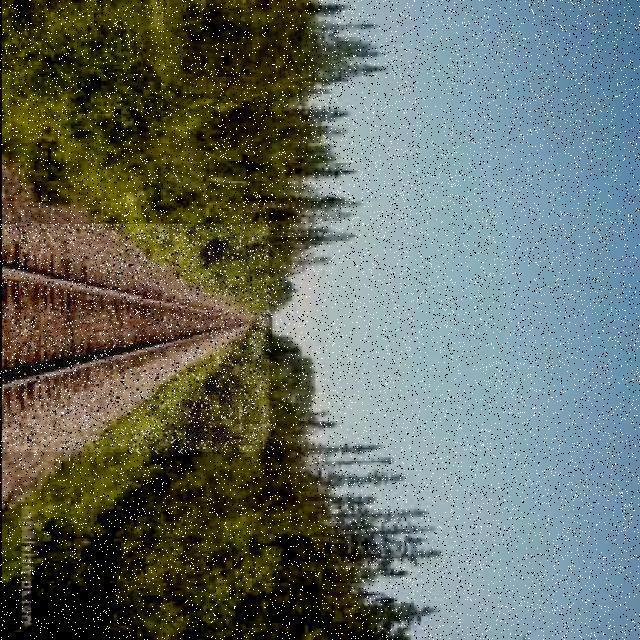rail: (4, 226, 270, 453)
